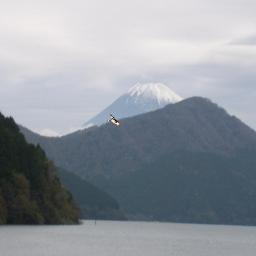Woodpecker: (108, 114, 121, 127)
